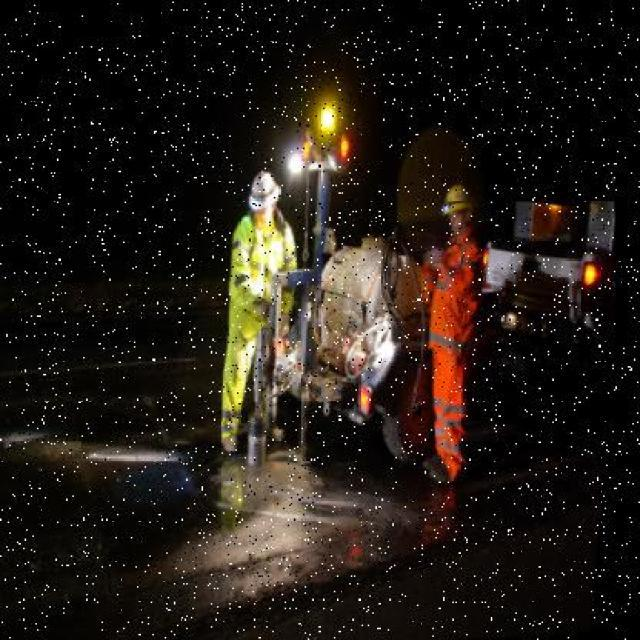helmet: (445, 177, 481, 218), (249, 168, 287, 204)
vest: (422, 231, 494, 369), (228, 214, 309, 328)
